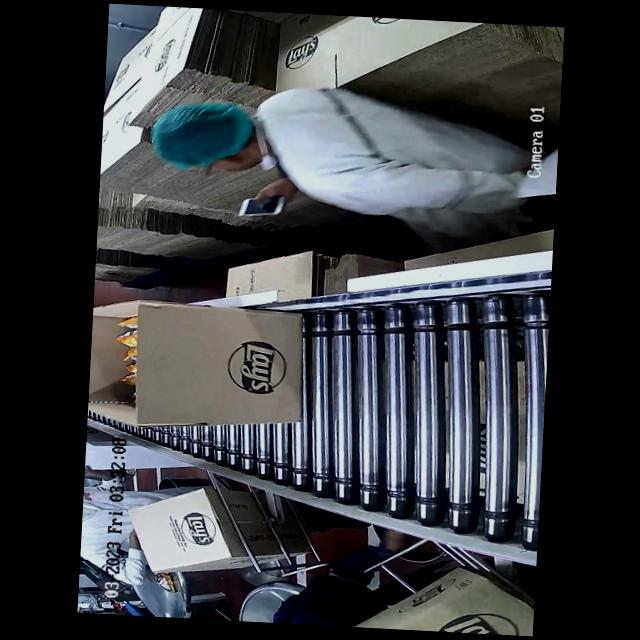cheese: (108, 302, 140, 406)
